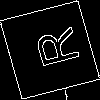R: (25, 25, 81, 72)
